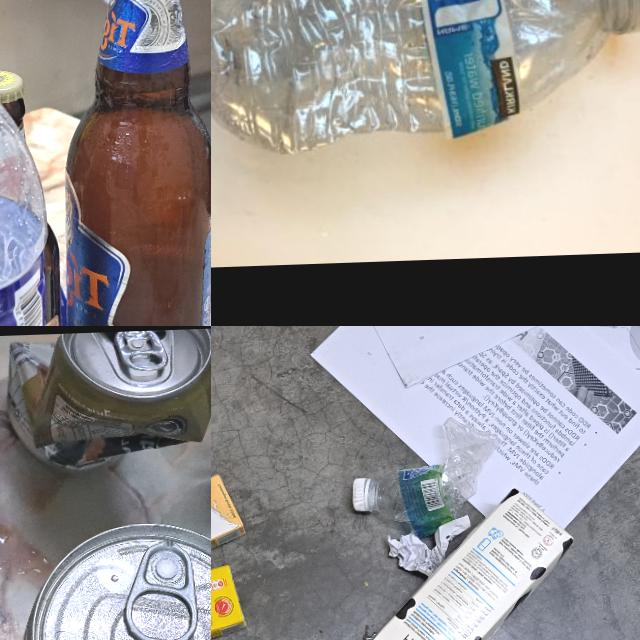aba de lata: (121, 543, 200, 640), (113, 330, 166, 373)
caixinha: (361, 485, 578, 640), (211, 472, 245, 569), (211, 563, 247, 640)
garrafa de vidro: (52, 0, 211, 326), (0, 66, 63, 326)
garrafa plástica: (211, 0, 618, 158), (365, 416, 501, 536), (0, 46, 56, 326)
lata: (0, 327, 211, 469), (0, 514, 211, 640)
papel: (211, 326, 640, 541), (385, 515, 472, 576)
tampa plástica: (605, 0, 640, 34), (352, 478, 369, 510)
